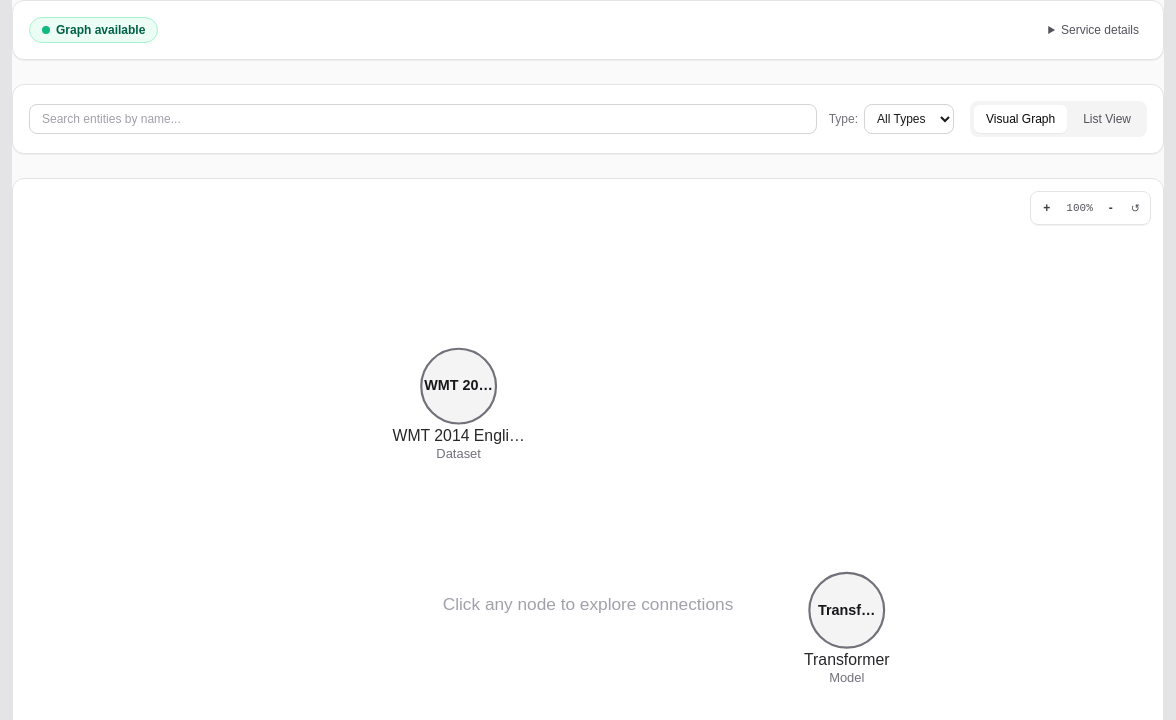
it: GraphExplorer Component › keeps graph indexing out of the explorer and hides service diagnostics by default
Expected: the text "Graph available" is shown, 29,17 -> 158,43
Click the heading "Service details". click: (1100, 30)
box: 1061,23 -> 1139,37
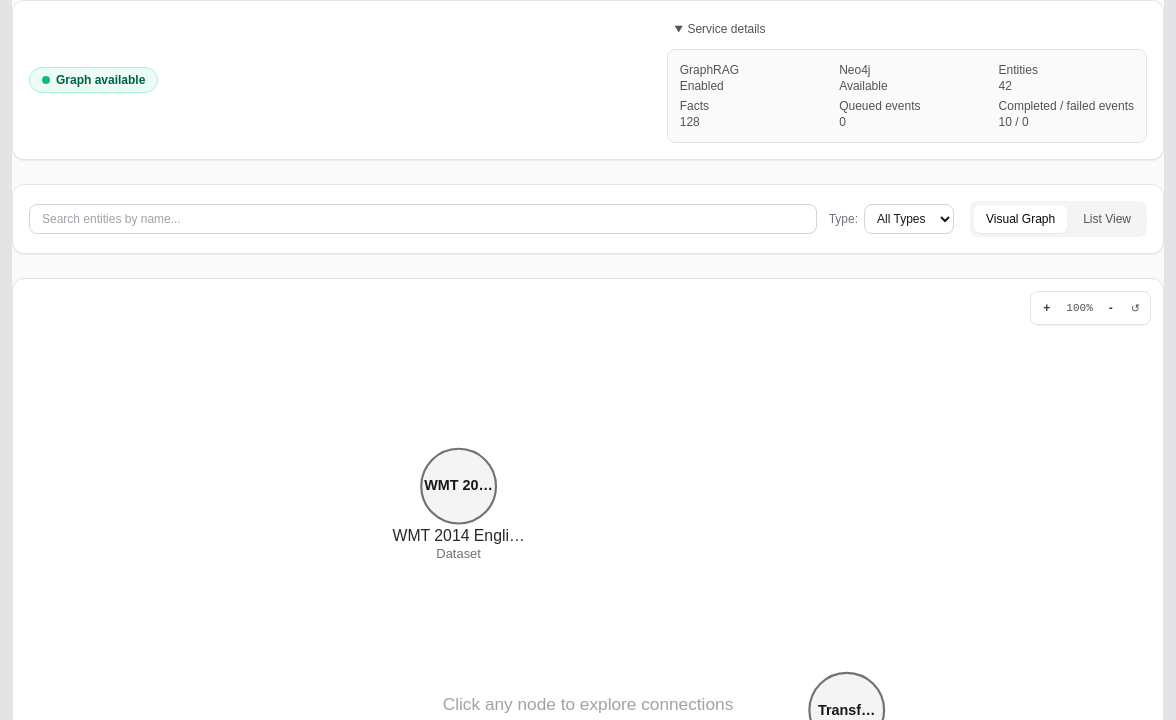
Expected: the text "Queued events" is shown, 839,99 -> 921,113
Expected: the text "0" is shown, 839,115 -> 846,129
